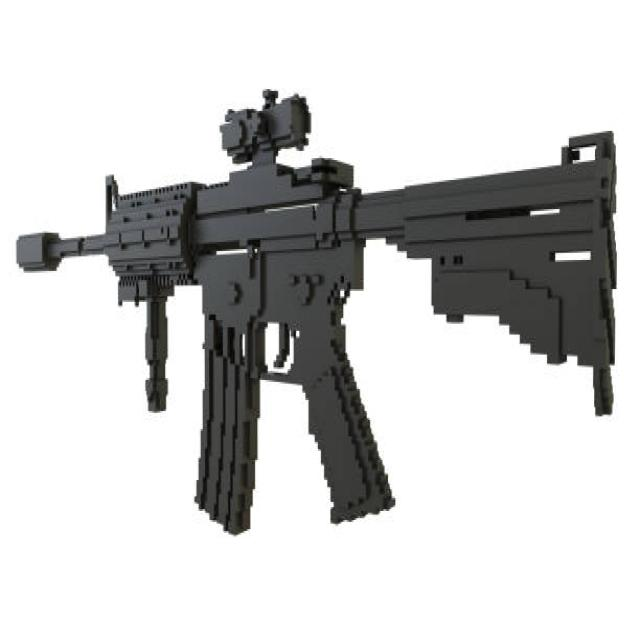rifle: (15, 80, 629, 561)
